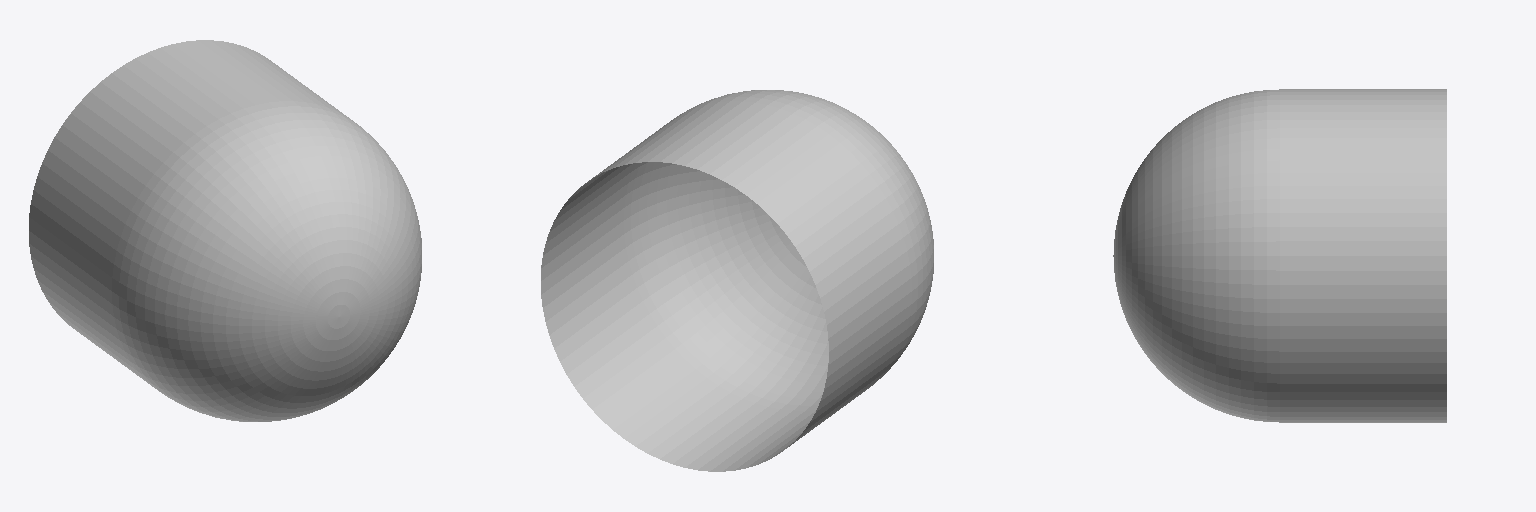
Rendered from skydome.obj.
3 views of the same model, side by side, from view 1: azimuth 30°, elevation 25°; view 2: azimuth 150°, elevation 25°; view 3: azimuth 270°, elevation 25° (orthographic).
Size of the model in its own units: 2 by 2 by 2.